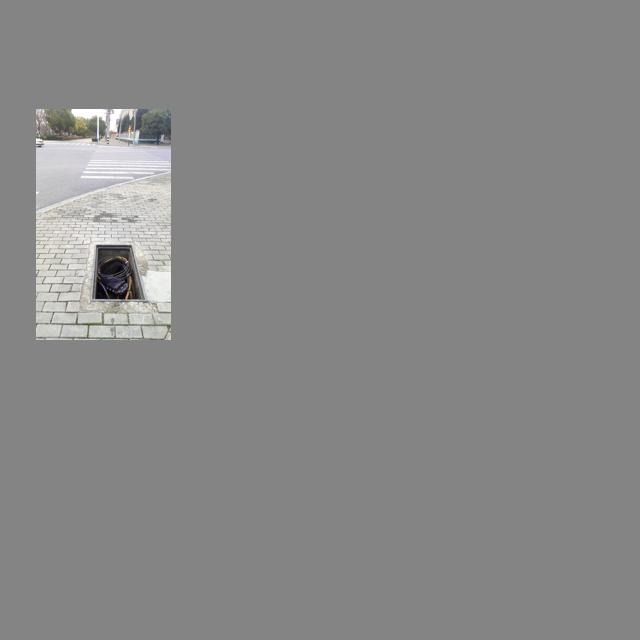lose: (90, 237, 149, 302)
